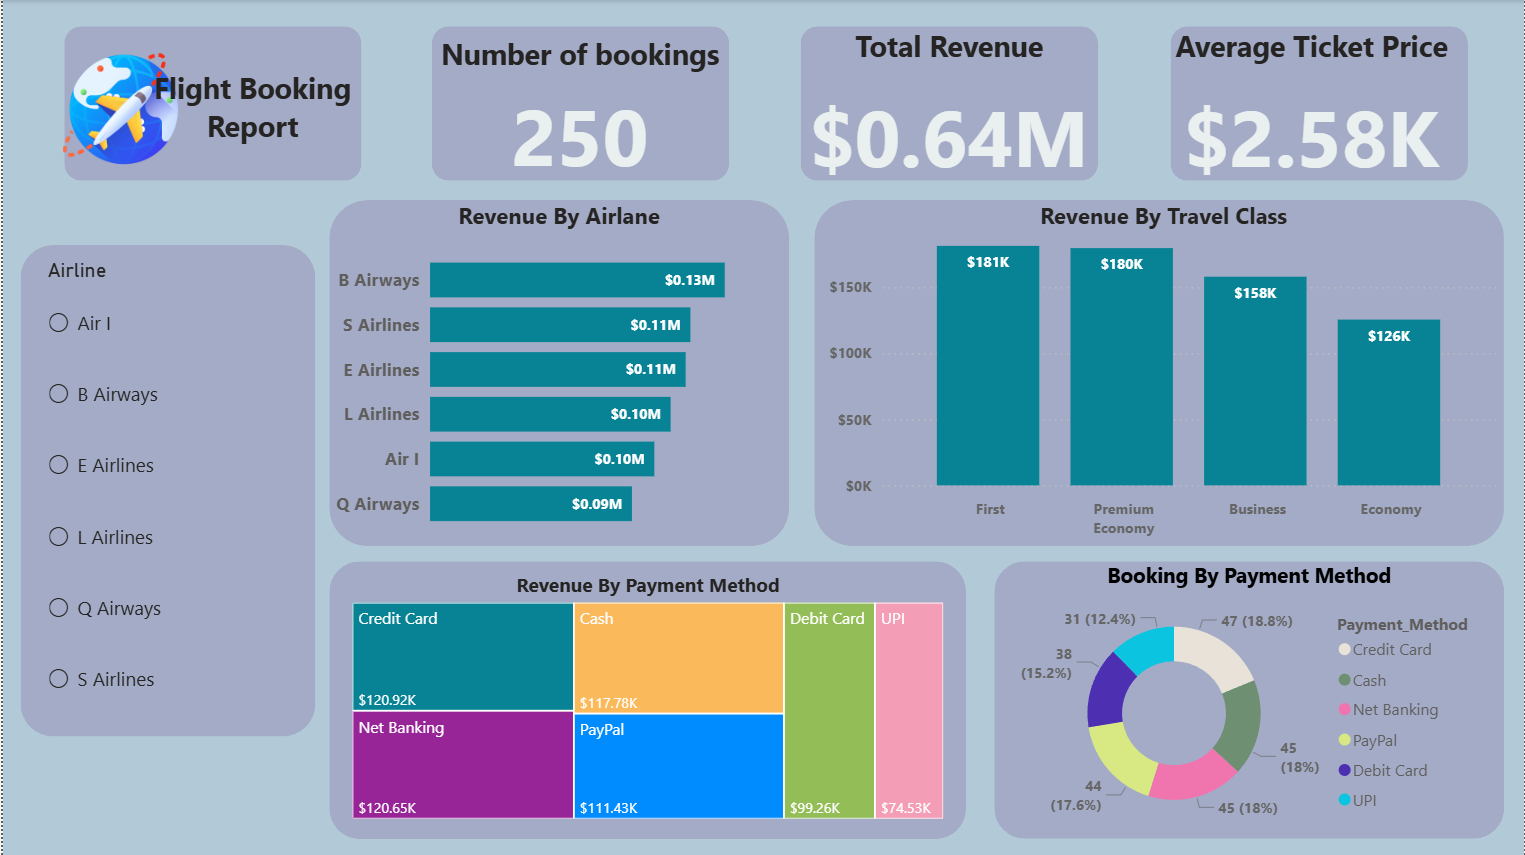

Layout of this report page (visuals, bound fields, positions):
{"tool":"powerbi","page":{"name":"Page 1","canvas":[1280,720],"ordinal":0},"visuals":[{"type":"shape","title":"Flight Booking Report","box":[51.5,22.1,250,130],"z":0},{"type":"shape","box":[360.6,22.1,250.2,130],"z":1000},{"type":"shape","box":[670.8,22.1,250.2,130],"z":2000},{"type":"shape","box":[982,22.1,250.2,130],"z":3000},{"type":"image","box":[50.3,40.7,97.1,100.7],"z":4000},{"type":"textbox","box":[118.7,52.7,182.2,76.7],"z":5000},{"type":"card","title":"Number of bookings","fields":{"Values":["Measure.Number Of Bookings"]},"box":[355.6,30,260.1,130.6],"z":6000},{"type":"card","title":"Total Revenue","fields":{"Values":["Measure.Total Price Of Tickets"]},"box":[670.8,22.1,250.2,146.1],"z":7000},{"type":"shape","title":"Flight Booking Report","box":[682.4,168.2,580.4,291.2],"z":8000},{"type":"card","title":"Average Ticket Price","fields":{"Values":["Measure.Average Ticket Price"]},"box":[975.7,22.1,250,146],"z":9000},{"type":"shape","title":"Flight Booking Report","box":[274.4,168.2,386.9,291.2],"z":10000},{"type":"barChart","title":"Revenue By Airlane","fields":{"Y":["Measure.Total Price Of Tickets"],"Category":["flight_bookings_sample.Airline"]},"box":[274.4,168.2,386.9,291.2],"z":11000},{"type":"columnChart","title":"Revenue By Travel Class","fields":{"Category":["flight_bookings_sample.Travel_Class"],"Y":["Measure.Total Price Of Tickets"]},"box":[689.7,168.2,573,291.2],"z":12000},{"type":"shape","title":"Flight Booking Report","box":[833.8,472.1,429,233.4],"z":13000},{"type":"donutChart","title":"Booking By Payment Method","fields":{"Category":["flight_bookings_sample.Payment_Method"],"Y":["Measure.Number Of Bookings"]},"box":[843.7,472.2,409.9,233.7],"z":14000},{"type":"shape","title":"Flight Booking Report","box":[274.5,472.2,535.7,233.7],"z":15000},{"type":"treemap","title":"Revenue By Payment Method","fields":{"Group":["flight_bookings_sample.Payment_Method"],"Values":["Measure.Total Price Of Tickets"]},"box":[288.8,480.6,507,213.3],"z":16000},{"type":"shape","title":"Flight Booking Report","box":[14.4,206.1,248.1,413.5],"z":17000},{"type":"listSlicer","fields":{"Values":["flight_bookings_sample.Airline"]},"box":[32.4,216.9,215.7,389.5],"z":18000}]}

Visuals, with their boxes in screenshot pixels (x1, y1, x2, y2), scaled from the page's 1280x720 canvas onto the 1525x855 screenshot:
"Flight Booking Report" shape: (61, 26, 359, 181)
shape: (430, 26, 728, 181)
shape: (799, 26, 1097, 181)
shape: (1170, 26, 1468, 181)
image: (60, 48, 176, 168)
textbox: (141, 63, 358, 154)
"Number of bookings" card: (424, 36, 734, 191)
"Total Revenue" card: (799, 26, 1097, 200)
"Flight Booking Report" shape: (813, 200, 1505, 546)
"Average Ticket Price" card: (1162, 26, 1460, 200)
"Flight Booking Report" shape: (327, 200, 788, 546)
"Revenue By Airlane" barChart: (327, 200, 788, 546)
"Revenue By Travel Class" columnChart: (822, 200, 1504, 546)
"Flight Booking Report" shape: (993, 561, 1505, 838)
"Booking By Payment Method" donutChart: (1005, 561, 1494, 838)
"Flight Booking Report" shape: (327, 561, 965, 838)
"Revenue By Payment Method" treemap: (344, 571, 948, 824)
"Flight Booking Report" shape: (17, 245, 313, 736)
listSlicer - flight_bookings_sample.Airline: (39, 258, 296, 720)
